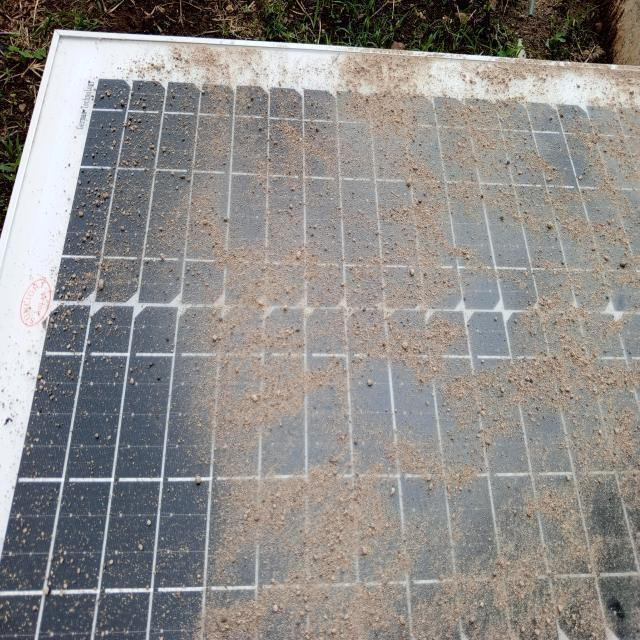Surface Contaminant: (73, 85, 639, 536)
